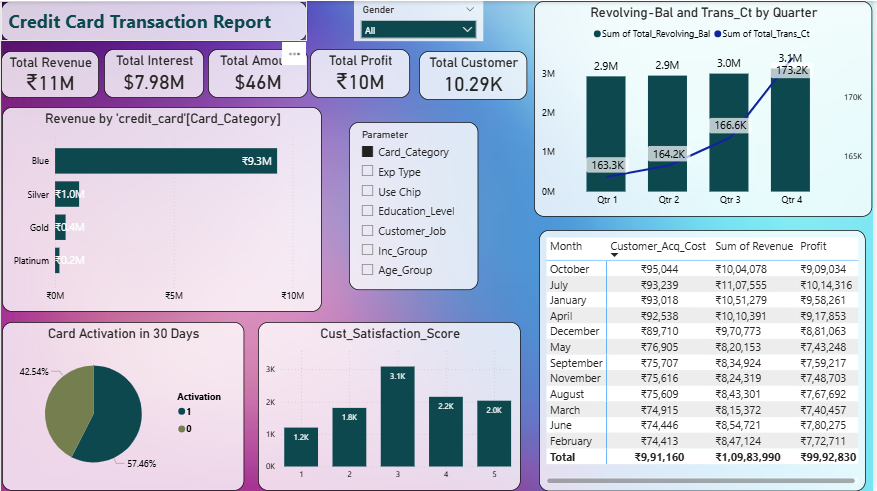

The dashboard page shown, as its layout file describes it:
{"tool":"powerbi","page":{"name":"Page 1","canvas":[1280,720],"ordinal":0},"visuals":[{"type":"card","title":"Total Revenue","fields":{"Values":["Sum(credit_card.Revenue)"]},"box":[0,73.5,144,74.9],"z":0},{"type":"card","title":"Total Interest","fields":{"Values":["Sum(credit_card.Interest_Earned)"]},"box":[144,70.5,146.9,72],"z":1000},{"type":"card","title":"Total Amount","fields":{"Values":["Sum(credit_card.Total_Trans_Amt)"]},"box":[304.2,70.5,146.9,72],"z":2000},{"type":"slicer","fields":{"Values":["Parameter.Parameter"]},"box":[471.7,155.8,189.6,246.9],"z":3000},{"type":"barChart","fields":{"Category":["credit_card.Card_Category","credit_card.Exp Type","credit_card.Use Chip","customer.Education_Level","customer.Customer_Job","customer.Inc_Group","customer.Age_Group"],"Y":["Sum(credit_card.Revenue)"]},"box":[1.5,155.8,470.2,301.2],"z":4000},{"type":"lineStackedColumnComboChart","title":"Revolving-Bal and Trans_Ct by Quarter","fields":{"Y2":["Sum(credit_card.Total_Trans_Ct)"],"Category":["credit_card.Week_Start_Date.Variation.Date Hierarchy.Quarter"],"Y":["Sum(credit_card.Total_Revolving_Bal)"]},"box":[783.2,0,496.7,285.1],"z":5000},{"type":"textbox","box":[0,0,449.6,58.8],"z":6000},{"type":"card","title":"Total Customer","fields":{"Values":["CountNonNull(customer.Client_Num)"]},"box":[614.2,73.5,158.7,72],"z":7000},{"type":"pivotTable","fields":{"Rows":["credit_card.Week_Start_Date.Variation.Date Hierarchy.Month"],"Values":["Sum(credit_card.Customer_Acq_Cost)","Sum(credit_card.Revenue)","credit_card.Profit"]},"box":[783.2,301.2,477.6,377.6],"z":8000},{"type":"pieChart","title":"Card Activation in 30 Days ","fields":{"Category":["credit_card.Activation_30_Days"],"Y":["Divide(CountNonNull(credit_card.Activation_30_Days), ScopedEval(CountNonNull(credit_card.Activation_30_Days), []))"]},"box":[0,471.7,355.6,248.3],"z":9000},{"type":"columnChart","title":" Cust_Satisfaction_Score","fields":{"Category":["customer.Cust_Satisfaction_Score"],"Y":["CountNonNull(customer.Client_Num)"]},"box":[364.4,471.7,386.4,248.3],"z":10000},{"type":"card","title":"Total Profit","fields":{"Values":["credit_card.Profit"]},"box":[454,70.5,146.9,72],"z":11000},{"type":"slicer","fields":{"Values":["customer.Gender"]},"box":[451.1,0,310,58.8],"z":12000}]}

Visuals, with their boxes in screenshot pixels (x1, y1, x2, y2), scaled from the page's 1280x720 canvas onto the 877x491 screenshot:
"Total Revenue" card: [0, 50, 99, 101]
"Total Interest" card: [99, 48, 199, 97]
"Total Amount" card: [208, 48, 309, 97]
slicer - Parameter.Parameter: [323, 106, 453, 275]
barChart - credit_card.Card_Category x credit_card.Exp Type: [1, 106, 323, 312]
"Revolving-Bal and Trans_Ct by Quarter" lineStackedColumnComboChart: [537, 0, 876, 194]
textbox: [0, 0, 308, 40]
"Total Customer" card: [421, 50, 530, 99]
pivotTable - credit_card.Week_Start_Date.Variation.Date Hierarchy.Month x Sum(credit_card.Customer_Acq_Cost): [537, 205, 864, 463]
"Card Activation in 30 Days " pieChart: [0, 322, 244, 490]
" Cust_Satisfaction_Score" columnChart: [250, 322, 514, 490]
"Total Profit" card: [311, 48, 412, 97]
slicer - customer.Gender: [309, 0, 521, 40]
